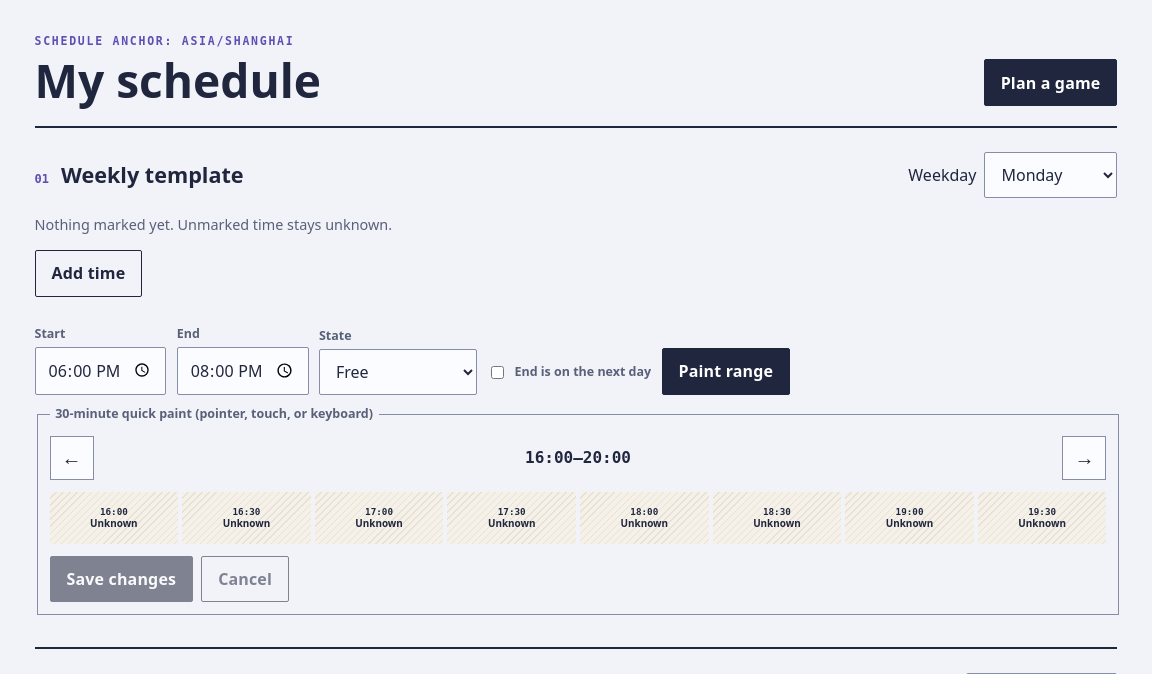
Test case: ScheduleEditor cross-midnight paint › keeps a rejected paint actionable when the schedule version changed
Click the button "Paint range" at (726,371), box [662,348,790,395]
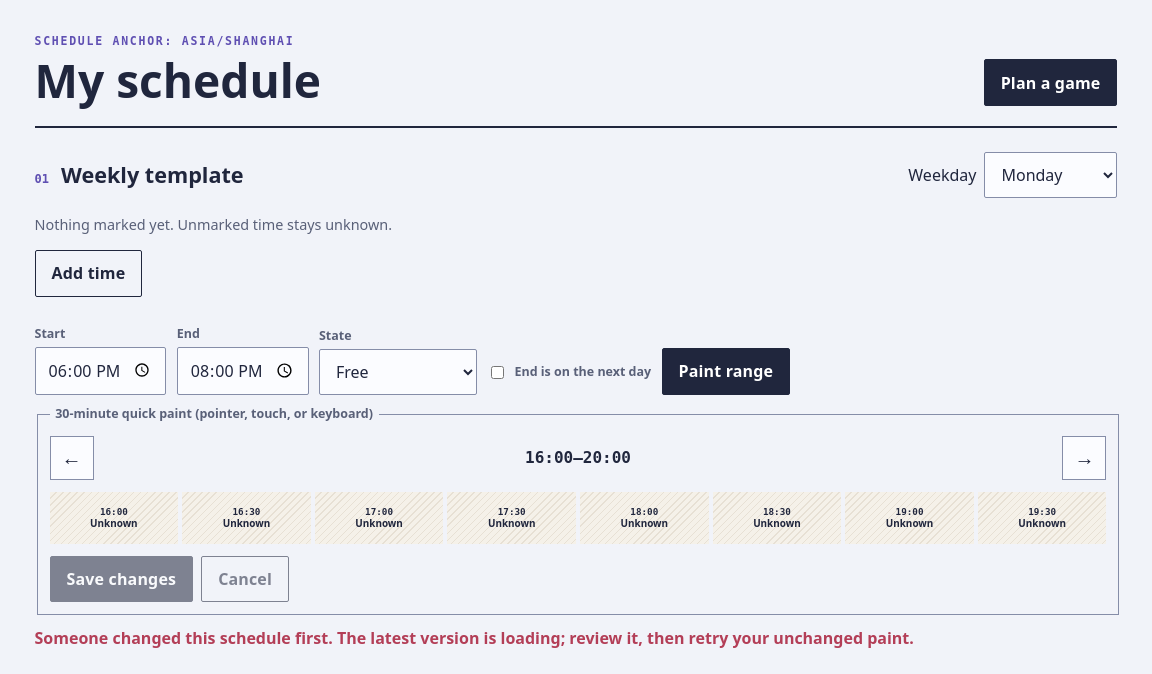
expect the text "Someone changed this schedule first" is shown: met, box [34,627,914,649]
